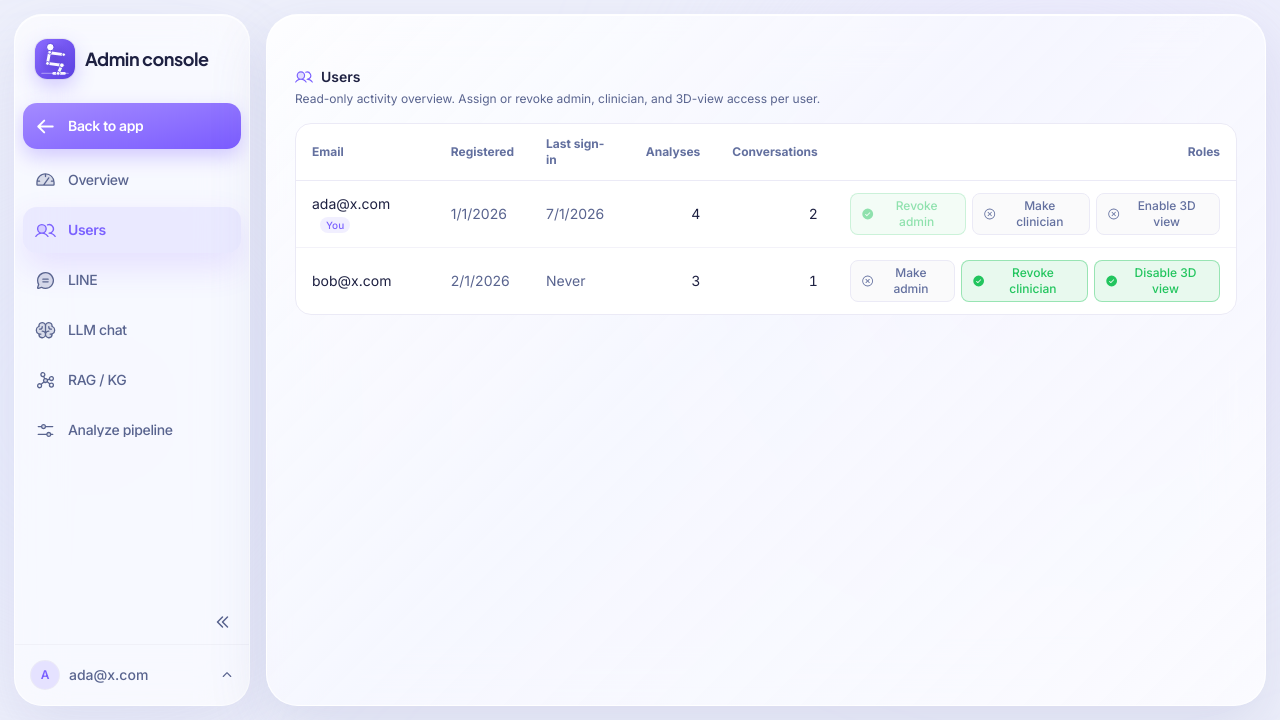
Scenario: AdminUsers › surfaces an inline row error when the 3D-view toggle fails
The width and height of the screenshot is (1280, 720).
Click the button "Disable 3D view".
click(1157, 281)  # box [1094,260,1220,302]
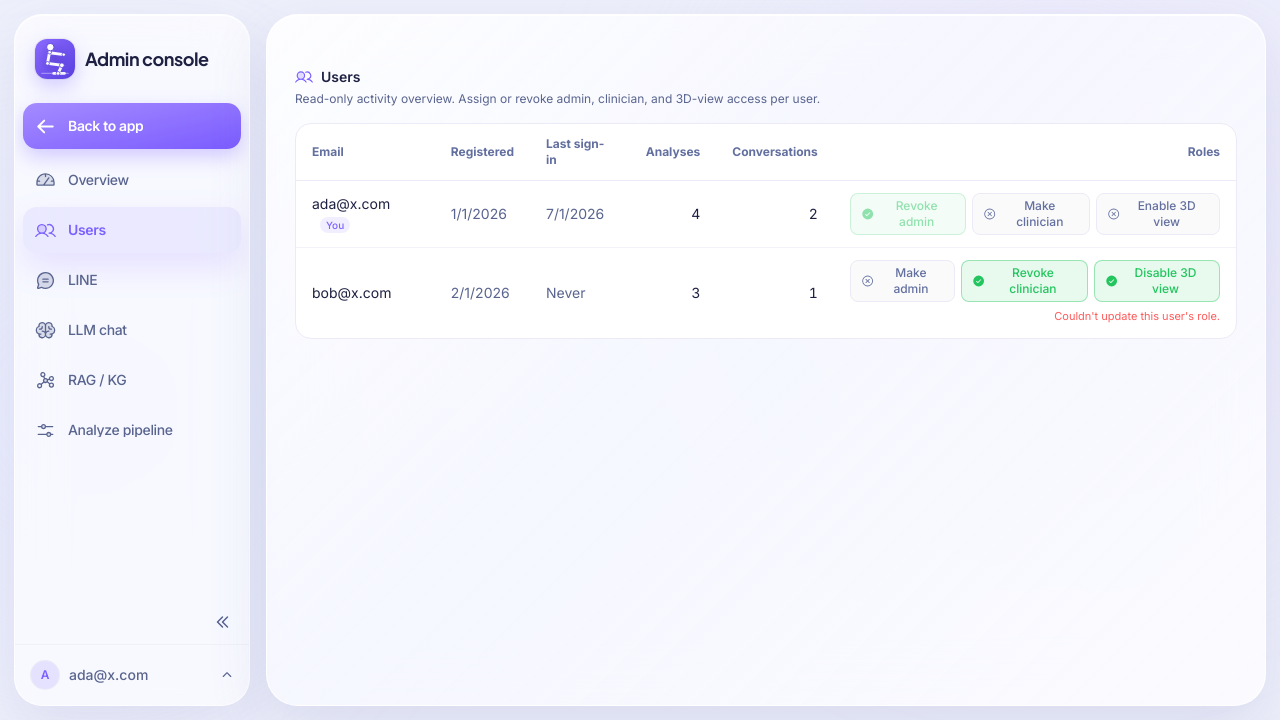
Now the text "Couldn't update this user's role." is shown, box [1054,309,1220,323]
